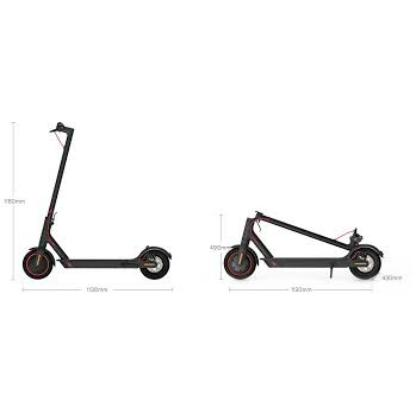bike: (21, 121, 172, 282), (222, 209, 384, 282)
